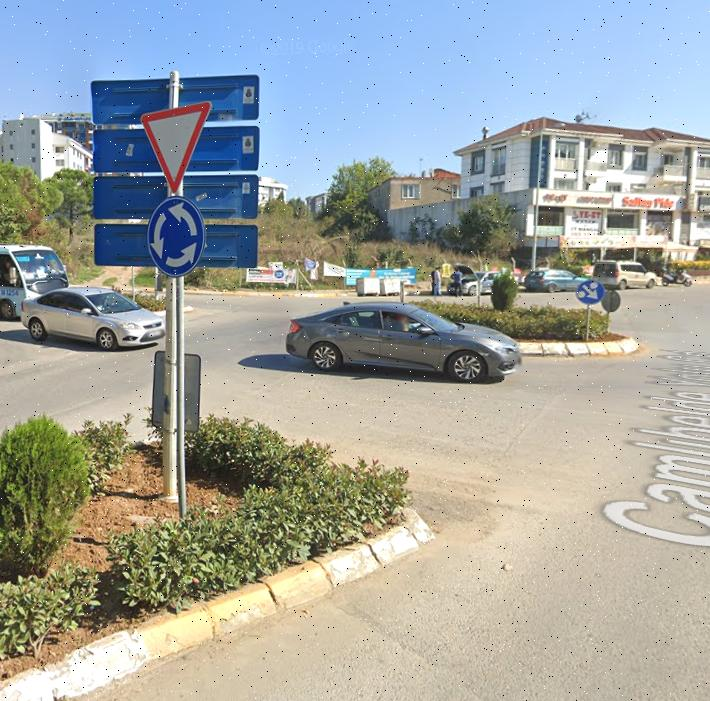crossroads: (147, 197, 208, 279)
